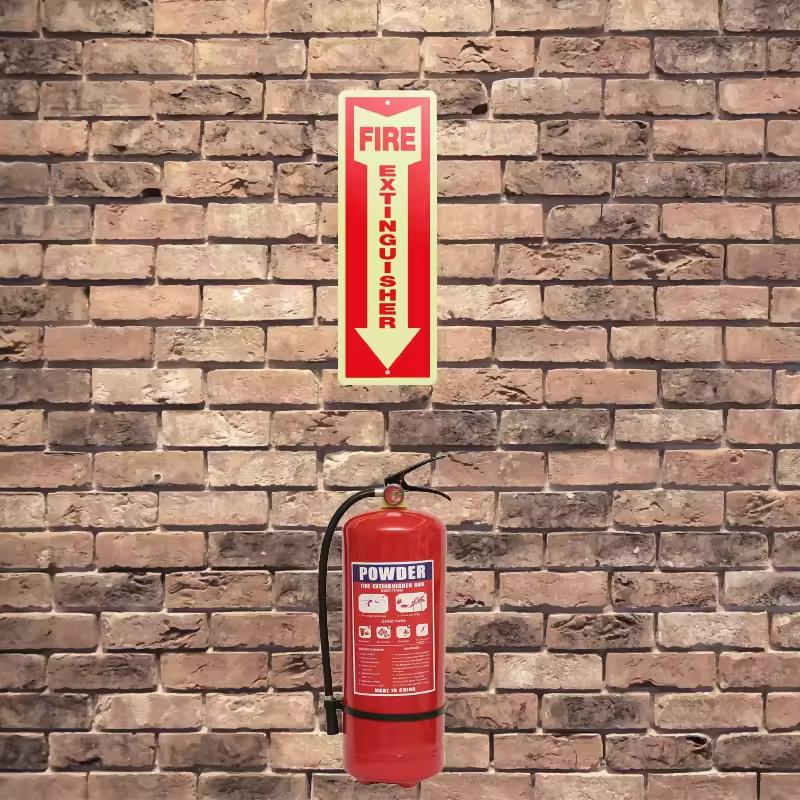wall-mounted: (298, 433, 485, 796)
